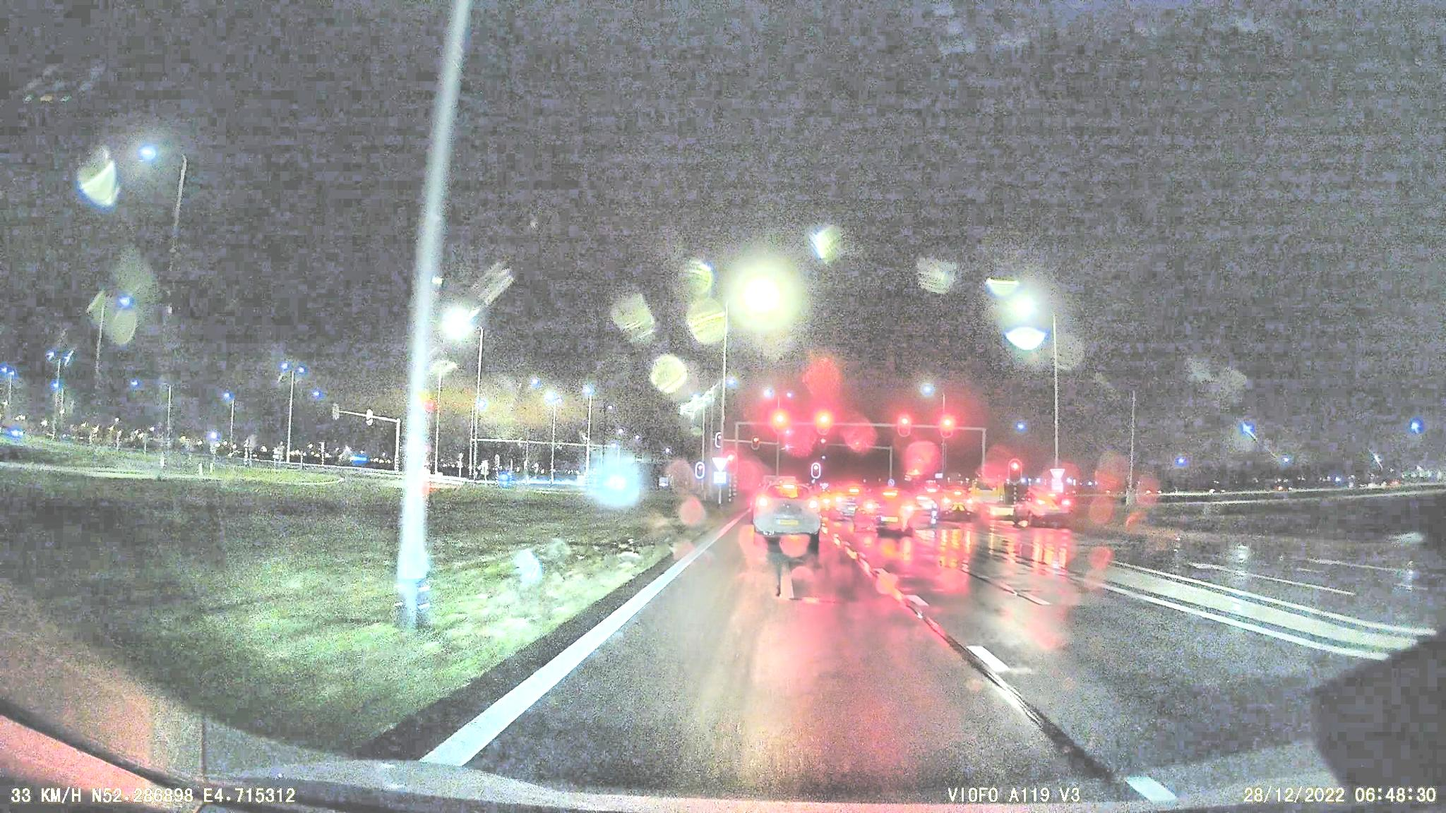Roads: (393, 530, 1446, 812)
